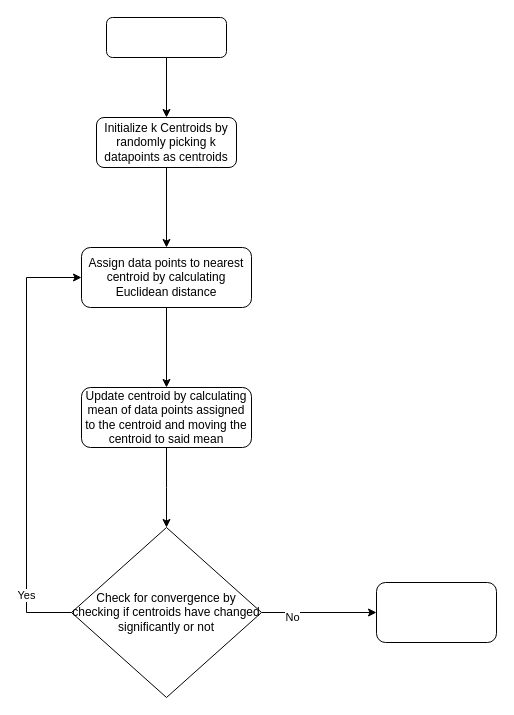
The diagram is 514 pixels wide and 715 high, and some of its shapes have lost their labels. The centre of each missing label's shape, as x and y in pixels:
"Return" belongs at point 436,612.
"Start" belongs at point 166,37.
